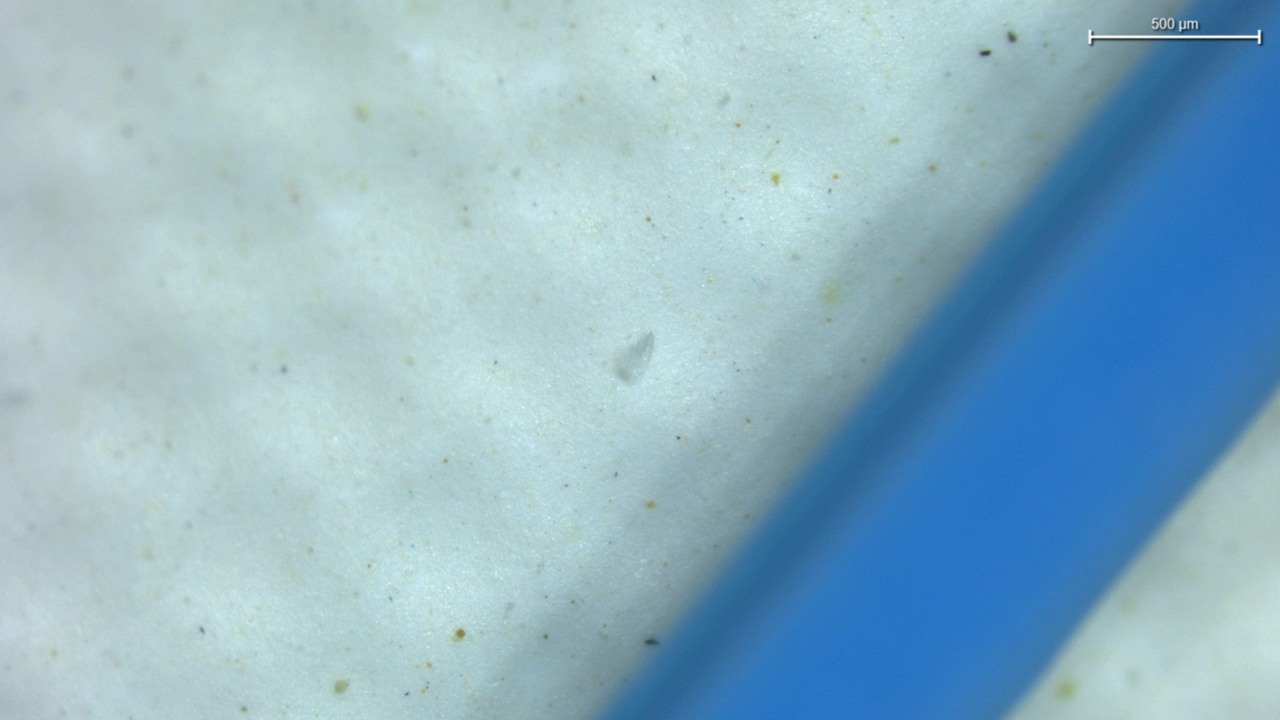microplastic_fragment: (613, 333, 655, 385)
